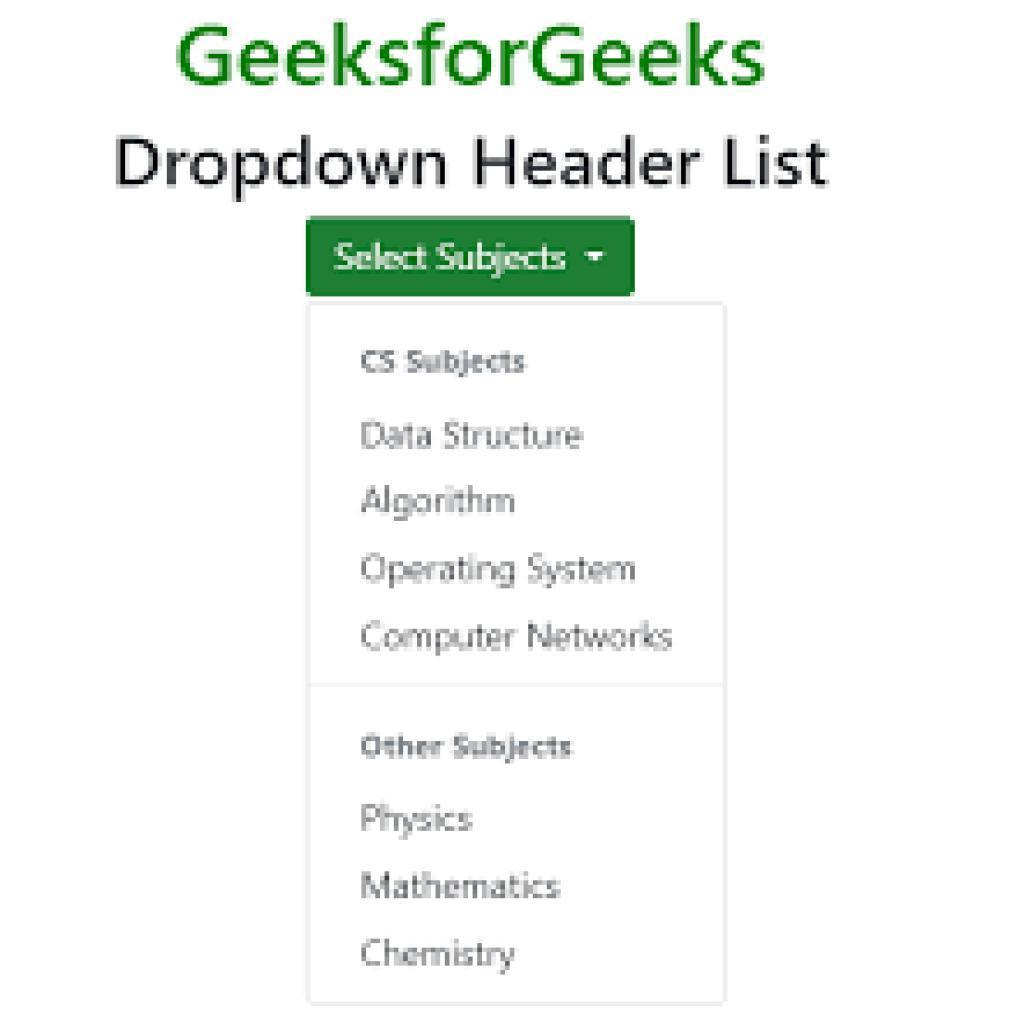dropdown: (310, 215, 636, 300)
